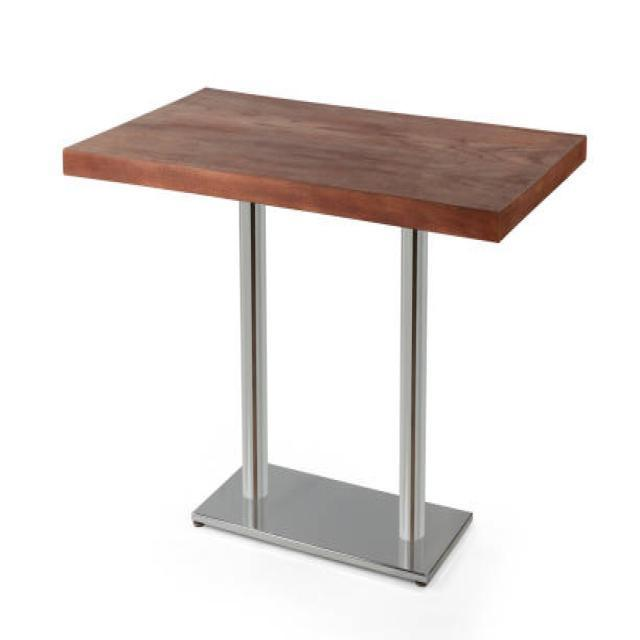table: (61, 83, 586, 588)
